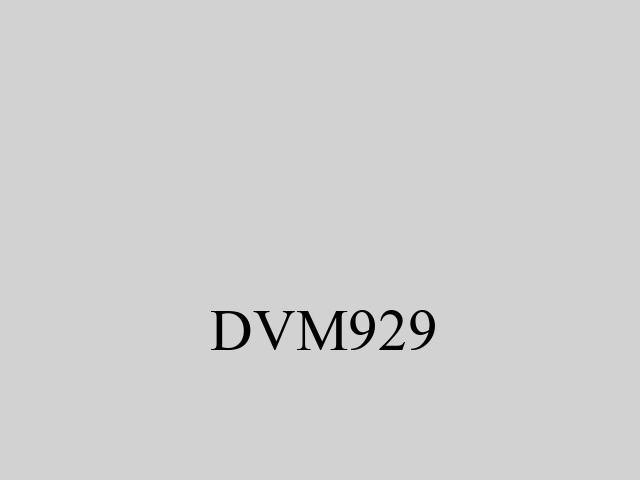OCR_AREA: (206, 306, 442, 354)
